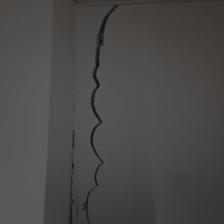High: (73, 1, 118, 224)
